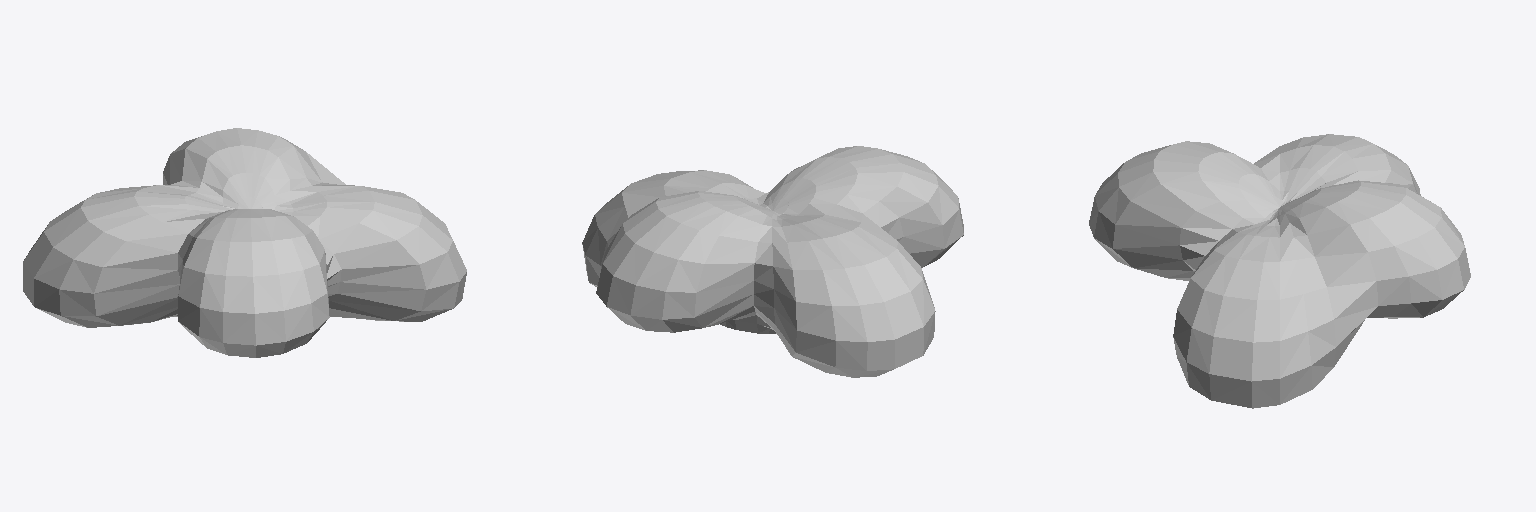
File: copa arbol.obj
3 renders of one model, left to right at view 1: azimuth 30°, elevation 25°; view 2: azimuth 150°, elevation 25°; view 3: azimuth 270°, elevation 25°, orthographic.
Parts seen in each view (by area): view 1: pSphere1; view 2: pSphere1; view 3: pSphere1.
Part boxes in pixels (x1,y1,x2,y2): pSphere1: (23, 128, 466, 357); pSphere1: (582, 146, 963, 377); pSphere1: (1089, 134, 1470, 408).
Bounding box in the file's own units: 35.24 × 13.7 × 30.87.